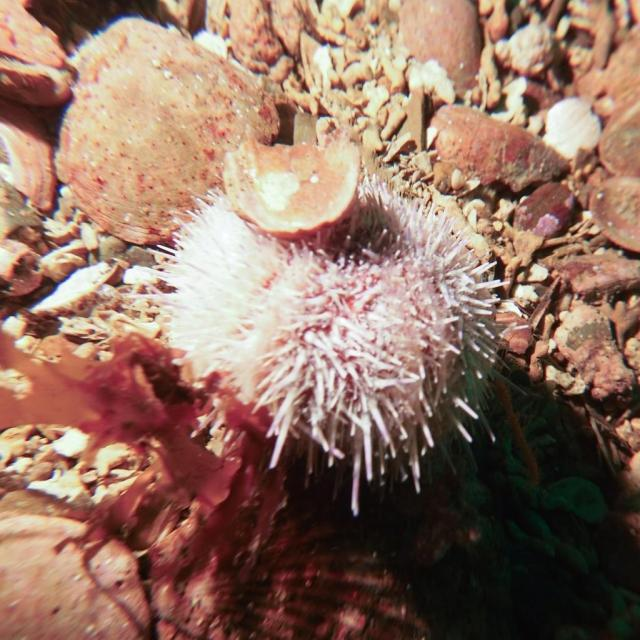Deniz Kestanesi: (127, 146, 527, 515)
